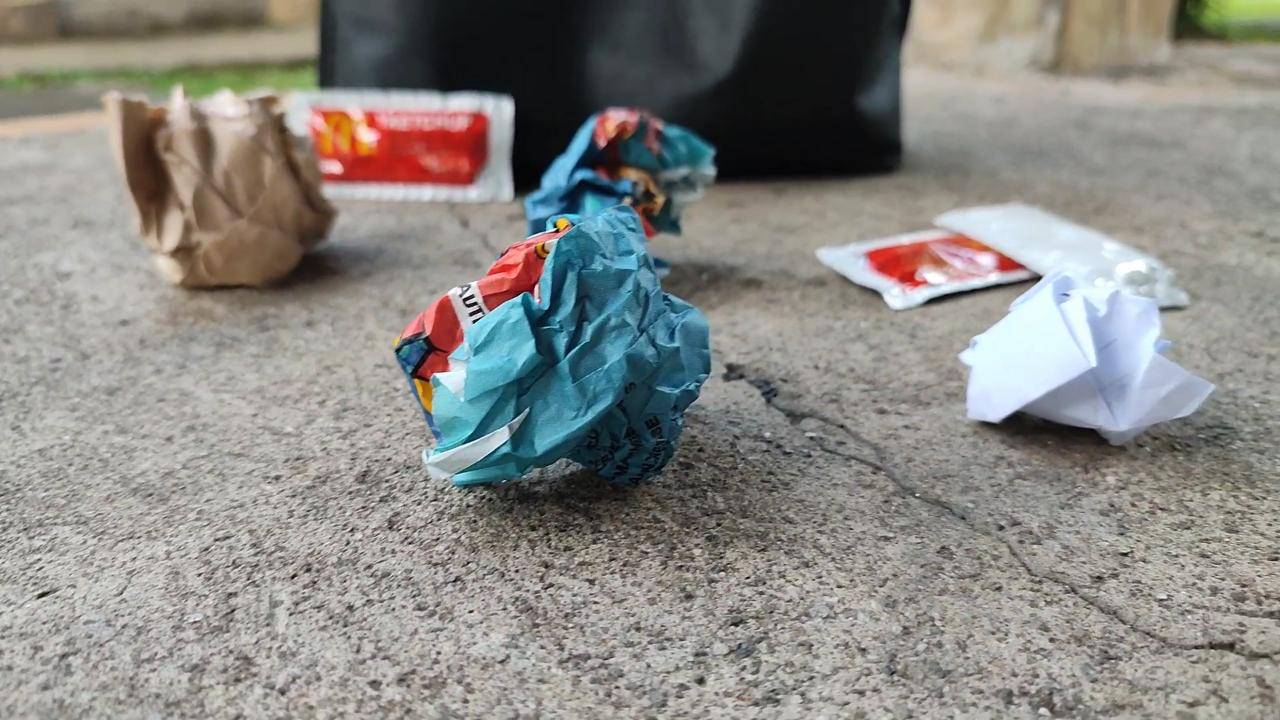Paper: (379, 205, 725, 503), (929, 272, 1225, 475), (89, 87, 336, 286), (526, 104, 709, 256)
